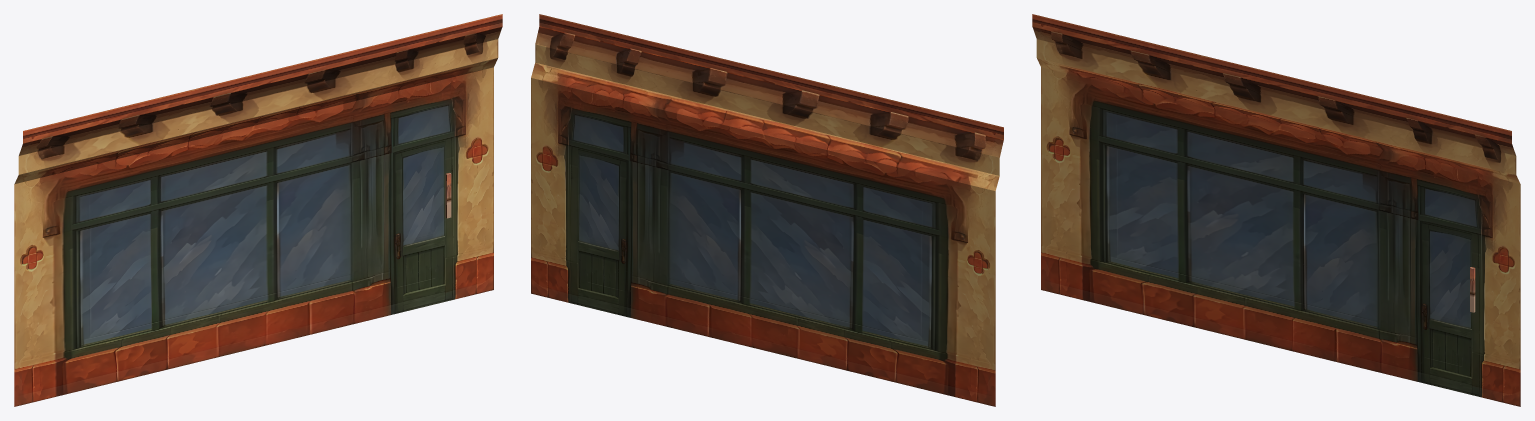
The model's file is MSN_G_Bay8A.fbx.
3 views of the same model, side by side, from view 1: azimuth 30°, elevation 25°; view 2: azimuth 150°, elevation 25°; view 3: azimuth 330°, elevation 25° (orthographic). The views are drawn at different scales.
Parts seen in each view (by area): view 1: MSN_G_Bay8A; view 2: MSN_G_Bay8A; view 3: MSN_G_Bay8A.
Part boxes in pixels (x1,y1,x2,y2): MSN_G_Bay8A: (14, 14, 502, 406); MSN_G_Bay8A: (531, 14, 1003, 406); MSN_G_Bay8A: (1032, 14, 1520, 406).
Bounding box in the file's own units: 8 × 0.25 × 4.5.
1 material, 1 textured.
